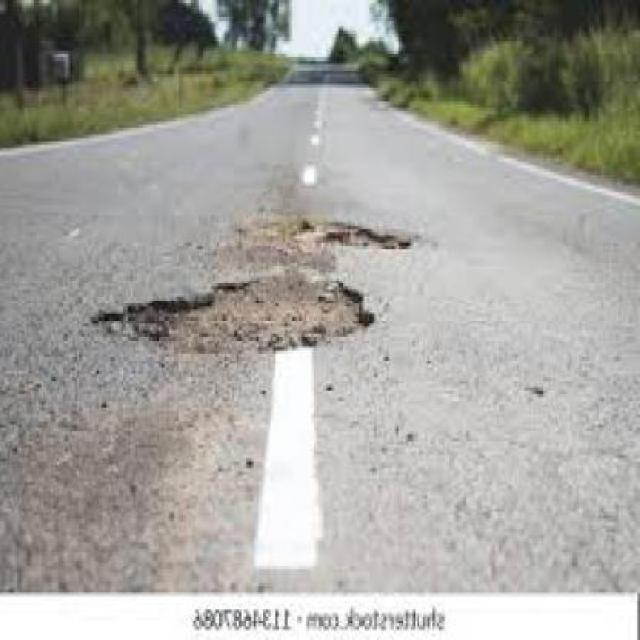pothole: (89, 262, 382, 358)
